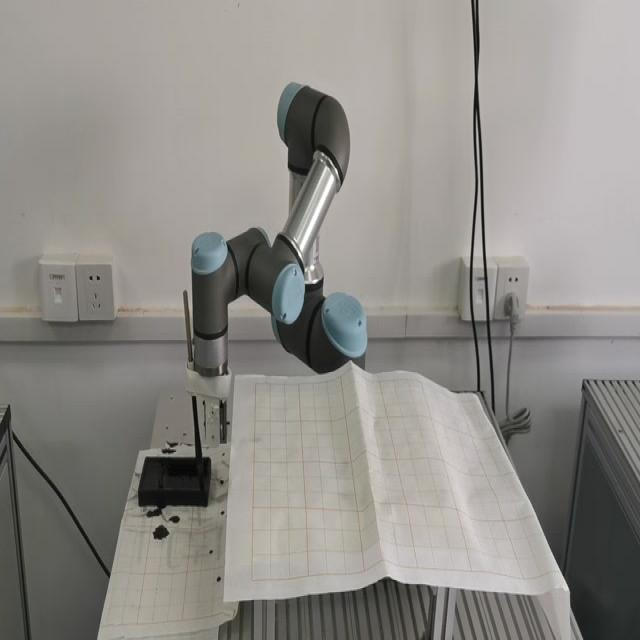head: (188, 436, 208, 486)
inkstone: (138, 457, 210, 511)
writing-brush: (176, 286, 211, 485)
